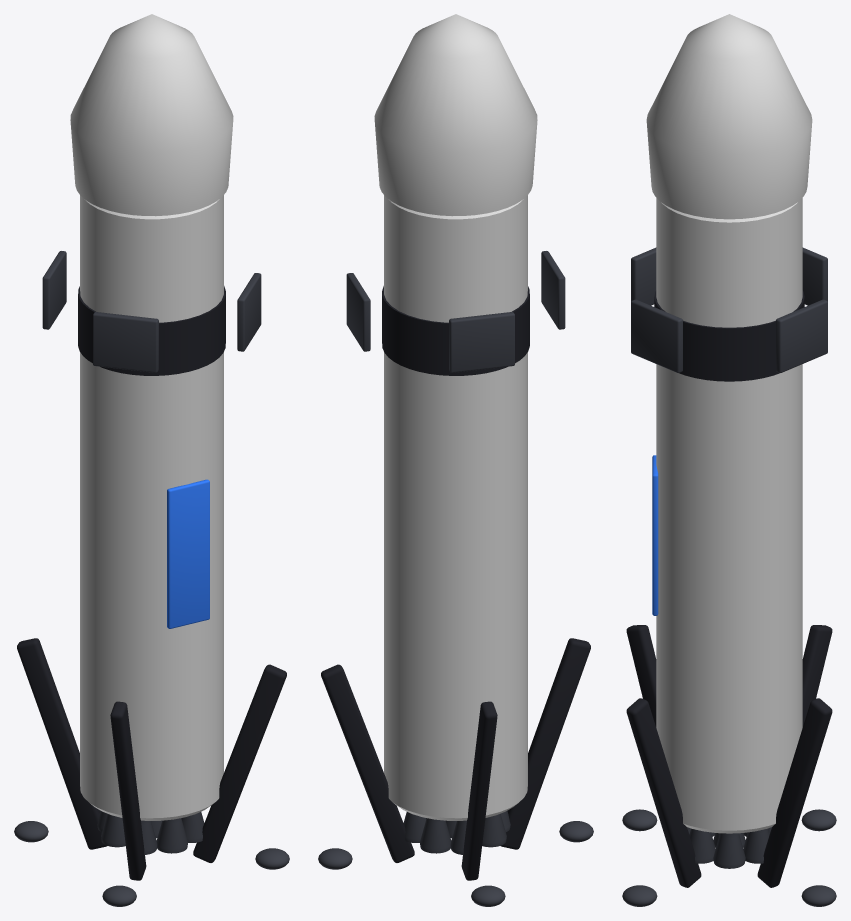
The model's file is Rocket_15_Reusable.fbx.
3 renders of one model, left to right at view 1: azimuth 30°, elevation 25°; view 2: azimuth 150°, elevation 25°; view 3: azimuth 270°, elevation 25°, orthographic.
Visible parts, largest first — view 1: R15_Body, R15_Fairing, R15_Logo, R15_Leg_4, R15_Leg_2, R15_Interstage, R15_GridFin_3, R15_Leg_3, R15_GridFin_4, R15_GridFin_2, R15_Nozzle_7, R15_Nozzle_5 (+3 smaller); view 2: R15_Body, R15_Fairing, R15_Leg, R15_Leg_3, R15_Interstage, R15_GridFin_2, R15_Leg_2, R15_GridFin, R15_GridFin_3, R15_Nozzle_3, R15_Nozzle_5, R15_Foot_3 (+2 smaller); view 3: R15_Body, R15_Fairing, R15_Interstage, R15_Leg, R15_Leg_4, R15_GridFin, R15_GridFin_4, R15_Leg_2, R15_Leg_3, R15_GridFin_2, R15_GridFin_3, R15_Logo (+7 smaller).
Part boxes in pixels (left/top/right/bottom): R15_Body: left=80, top=195, right=223, bottom=820; R15_Fairing: left=70, top=14, right=233, bottom=216; R15_Logo: left=167, top=479, right=209, bottom=628; R15_Leg_4: left=193, top=664, right=286, bottom=862; R15_Leg_2: left=17, top=638, right=106, bottom=849; R15_Interstage: left=78, top=286, right=225, bottom=375; R15_GridFin_3: left=93, top=312, right=158, bottom=372; R15_Leg_3: left=110, top=701, right=146, bottom=880; R15_GridFin_4: left=237, top=273, right=261, bottom=351; R15_GridFin_2: left=42, top=251, right=66, bottom=329; R15_Nozzle_7: left=156, top=818, right=187, bottom=853; R15_Nozzle_5: left=101, top=813, right=125, bottom=847; R15_Body: left=384, top=195, right=527, bottom=820; R15_Fairing: left=374, top=14, right=537, bottom=216; R15_Leg: left=321, top=664, right=414, bottom=862; R15_Leg_3: left=501, top=638, right=590, bottom=849; R15_Interstage: left=382, top=286, right=529, bottom=375; R15_GridFin_2: left=449, top=312, right=514, bottom=372; R15_Leg_2: left=461, top=701, right=497, bottom=880; R15_GridFin: left=346, top=273, right=370, bottom=351; R15_GridFin_3: left=541, top=251, right=565, bottom=329; R15_Nozzle_3: left=420, top=818, right=451, bottom=853; R15_Nozzle_5: left=482, top=813, right=506, bottom=847; R15_Foot_3: left=559, top=821, right=593, bottom=842; R15_Body: left=656, top=198, right=802, bottom=833; R15_Fairing: left=646, top=14, right=812, bottom=219; R15_Interstage: left=654, top=290, right=804, bottom=381; R15_Leg: left=757, top=698, right=832, bottom=887; R15_Leg_4: left=626, top=698, right=701, bottom=887; R15_GridFin: left=776, top=299, right=827, bottom=372; R15_GridFin_4: left=631, top=299, right=682, bottom=372; R15_Leg_2: left=802, top=625, right=832, bottom=726; R15_Leg_3: left=626, top=625, right=656, bottom=726; R15_GridFin_2: left=802, top=247, right=827, bottom=305; R15_GridFin_3: left=631, top=247, right=656, bottom=305; R15_Logo: left=652, top=455, right=658, bottom=615.
Size of the model in its own units: 2.2 by 9.66 by 2.2.
